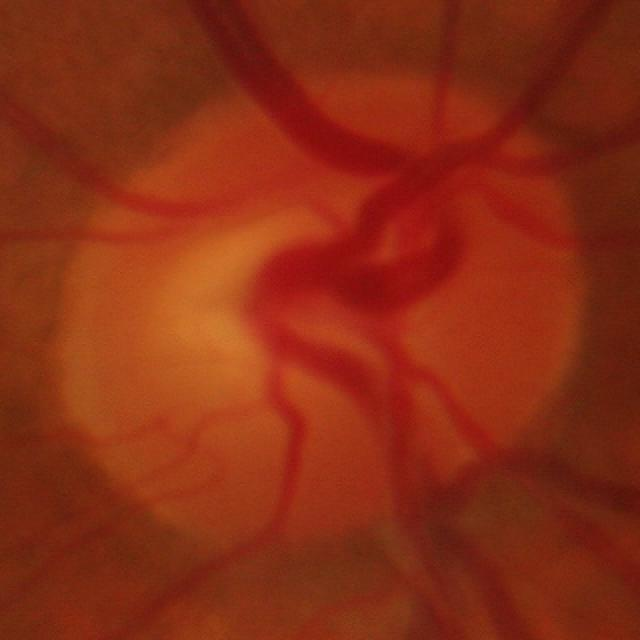OC: (158, 212, 382, 421)
OD: (58, 79, 588, 544)
